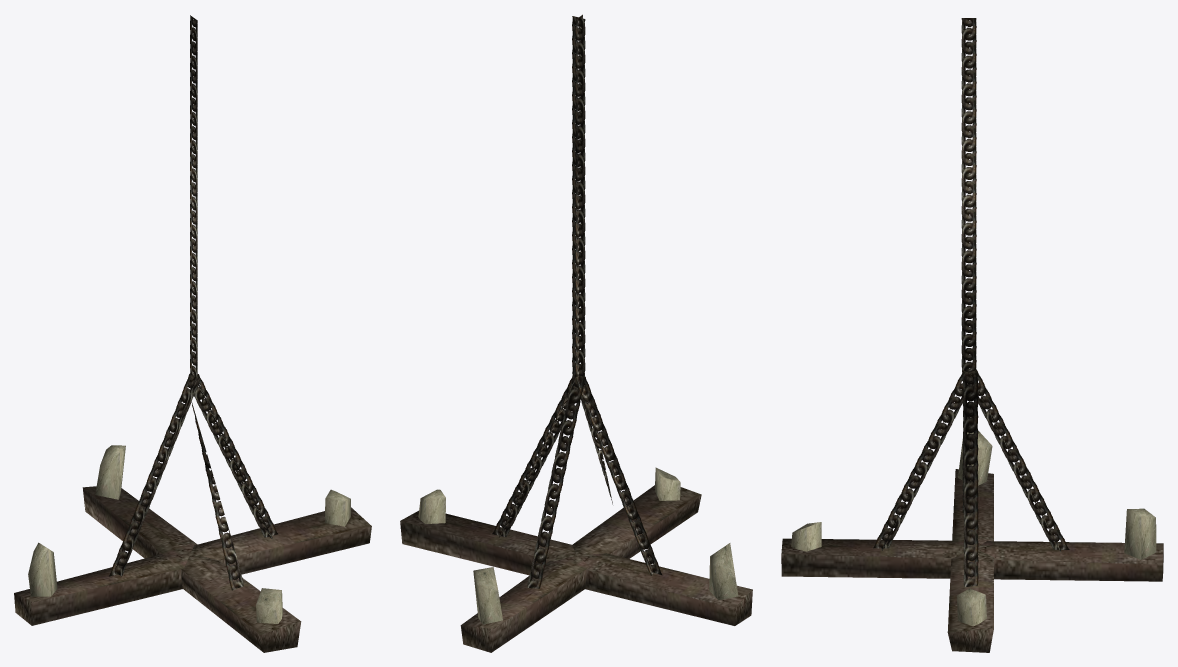
The model's file is OC_BIGLIGHTER_01.glb.
3 renders of one model, left to right at view 1: azimuth 30°, elevation 25°; view 2: azimuth 150°, elevation 25°; view 3: azimuth 270°, elevation 25°, orthographic.
Visible parts, largest first — view 1: Mesh; view 2: Mesh; view 3: Mesh.
Boxes of the visible parts, left/top/right/bottom form: Mesh: left=14, top=15, right=371, bottom=652; Mesh: left=400, top=14, right=752, bottom=652; Mesh: left=781, top=18, right=1163, bottom=652.
Size of the model in its own units: 1.4 by 2.25 by 1.4.
Materials: 3 (3 with a texture image).
